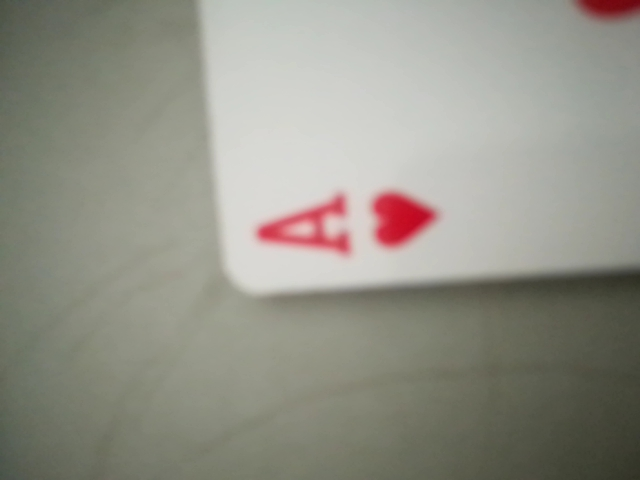hx a: (243, 166, 465, 283)
